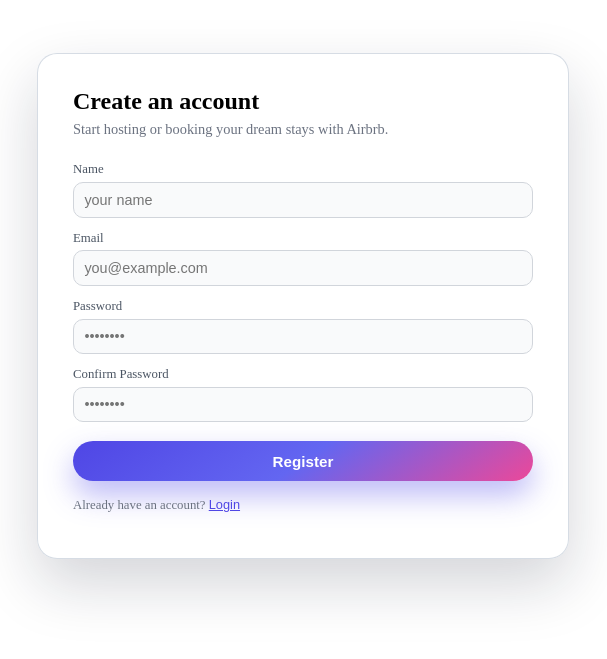
Test: RegisterPage › registers successfully and redirects to landing page
The width and height of the screenshot is (607, 659).
Type " Alice Admin " into the field labelled "Name".
click(303, 200); type(" Alice Admin ")  # box x1=73 y1=182 x2=533 y2=218
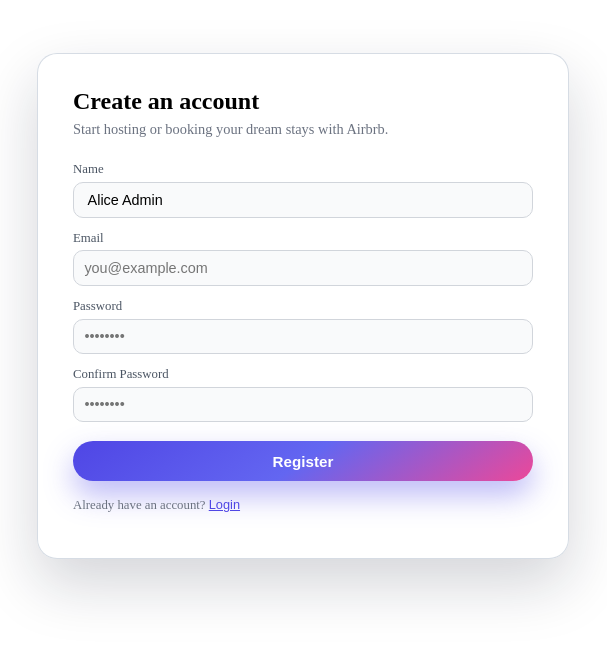
Type " team@airbrb.com " into the field labelled "Email".
click(303, 268); type(" team@airbrb.com ")  # box x1=73 y1=250 x2=533 y2=286
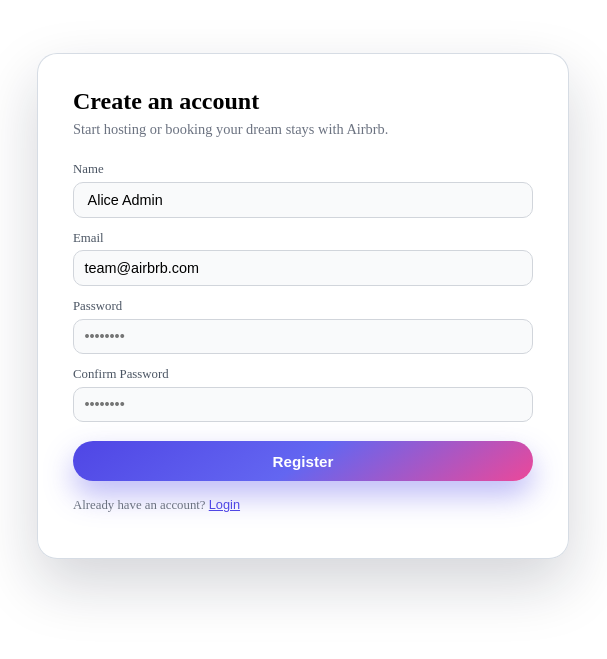
Type "secret" into the password field labelled "Password".
click(303, 336); type("secret")  # box x1=73 y1=318 x2=533 y2=354
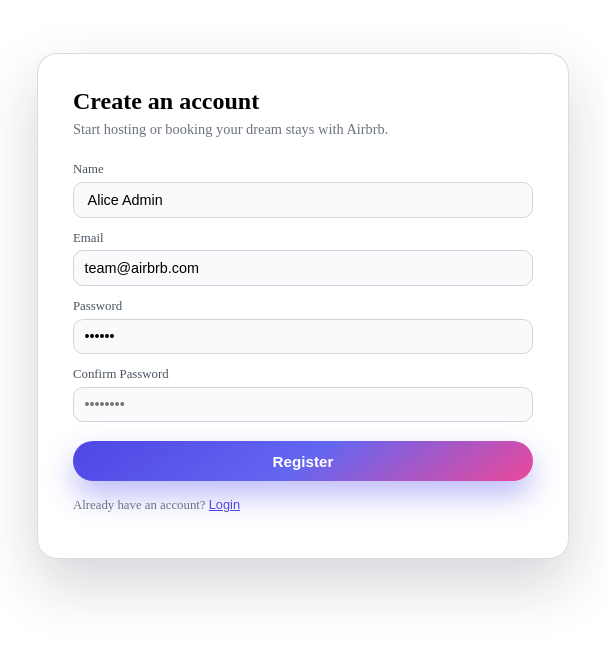
Type "secret" into the password field labelled "Confirm Password".
click(303, 404); type("secret")  # box x1=73 y1=387 x2=533 y2=422
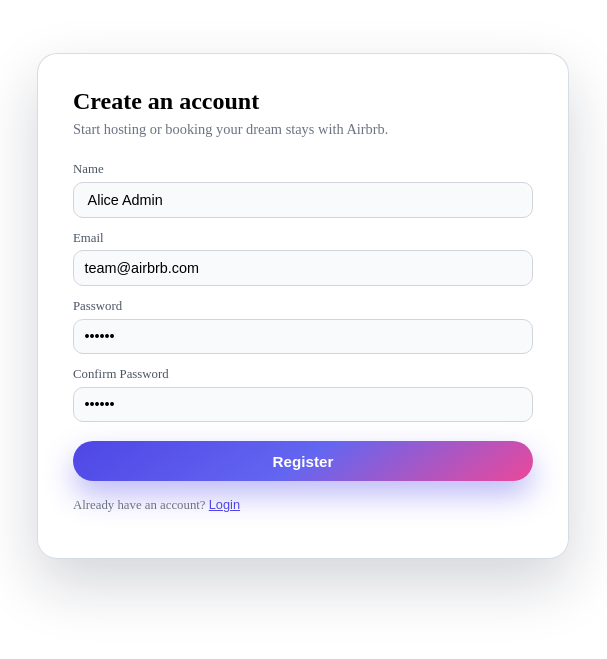
Submit the form with test id "register-form", box x1=73 y1=162 x2=533 y2=481
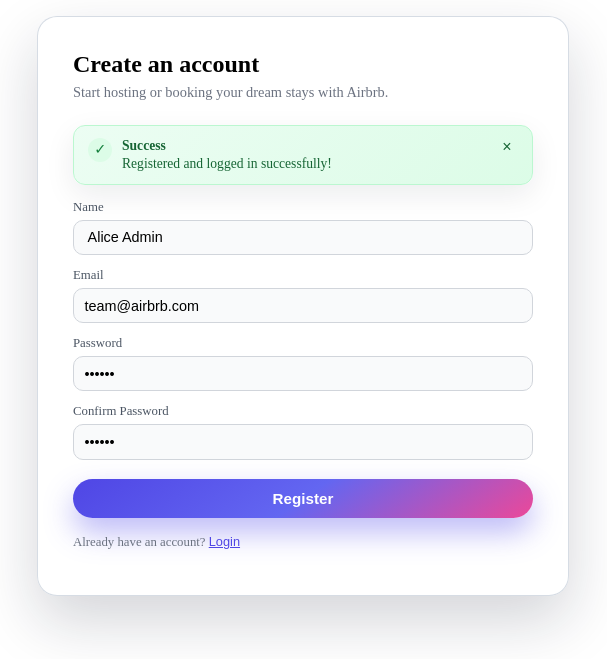
Now the text "Registered and logged in successfully!" is shown, box x1=122 y1=156 x2=332 y2=171
